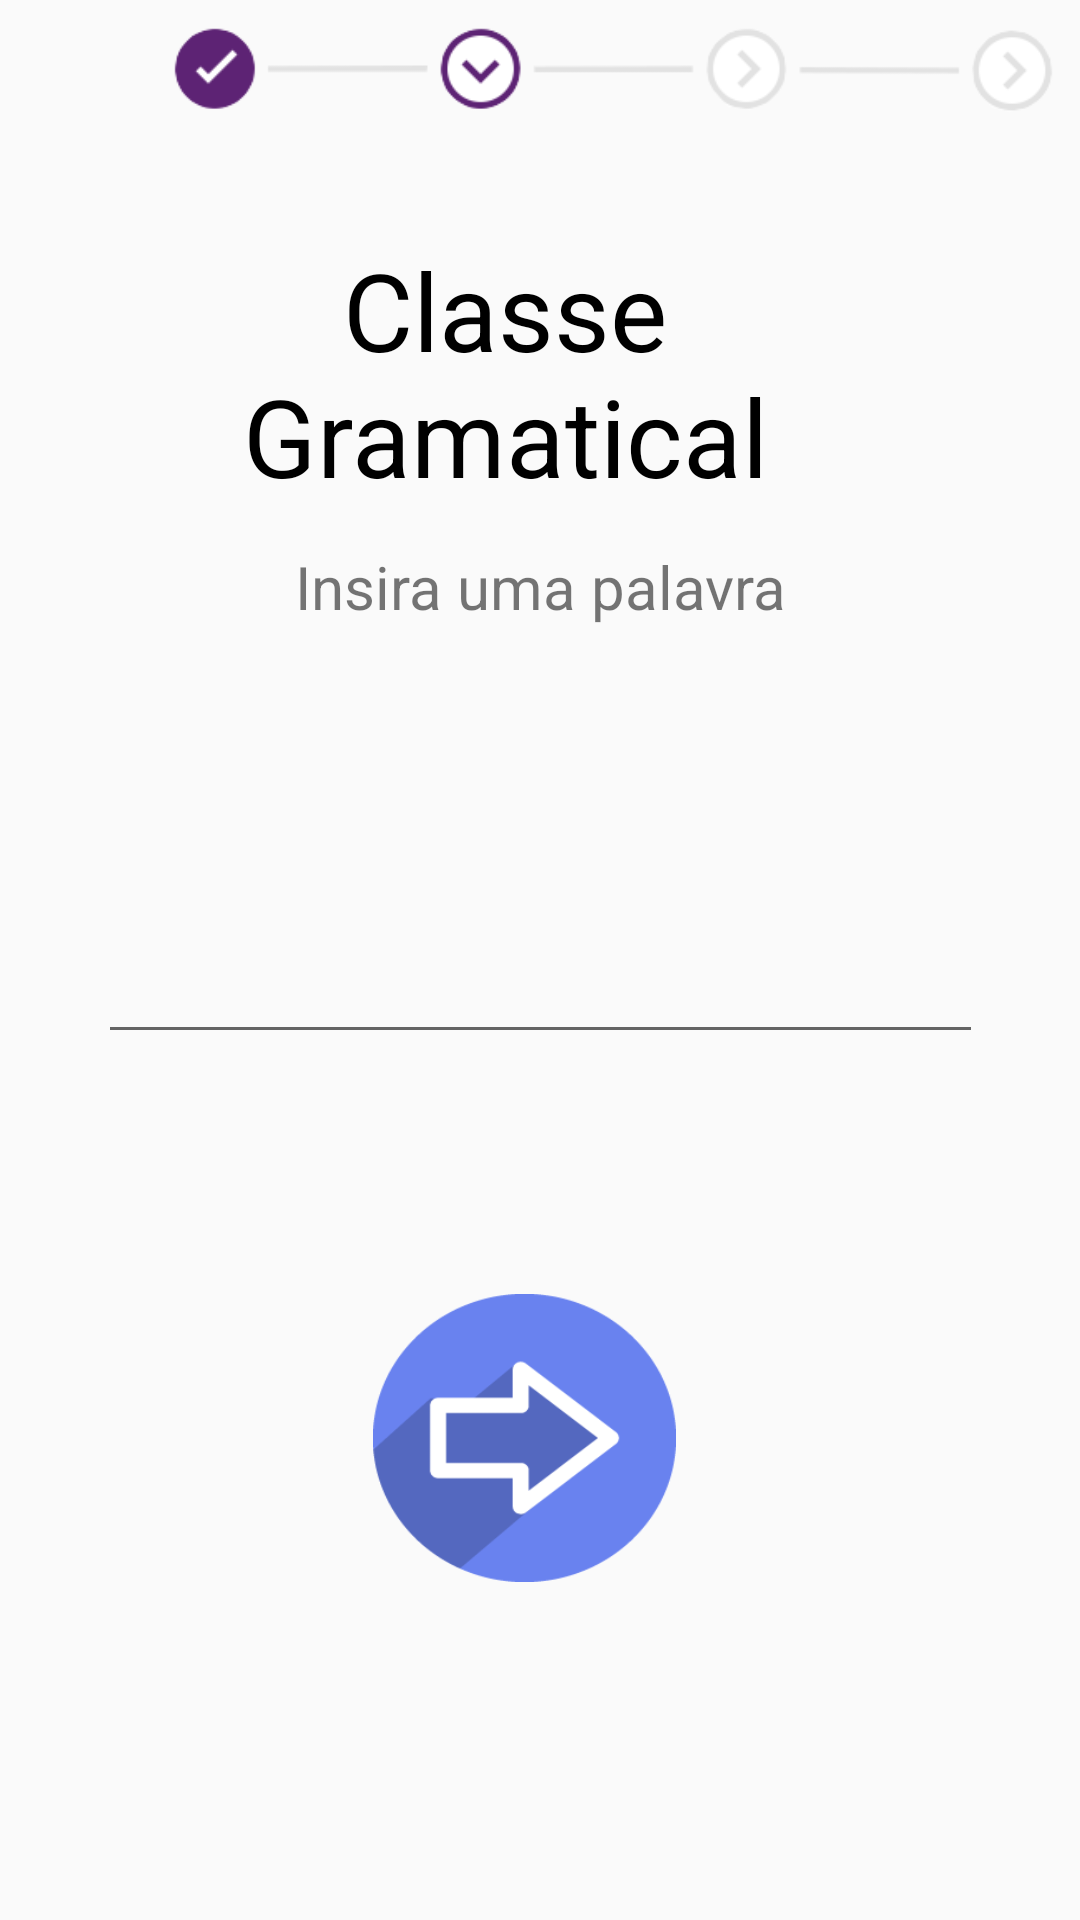

Screen size 1080px x 1920px. Icon name, then its center in pixels as [x,y]:
arrow: [524,1438]
